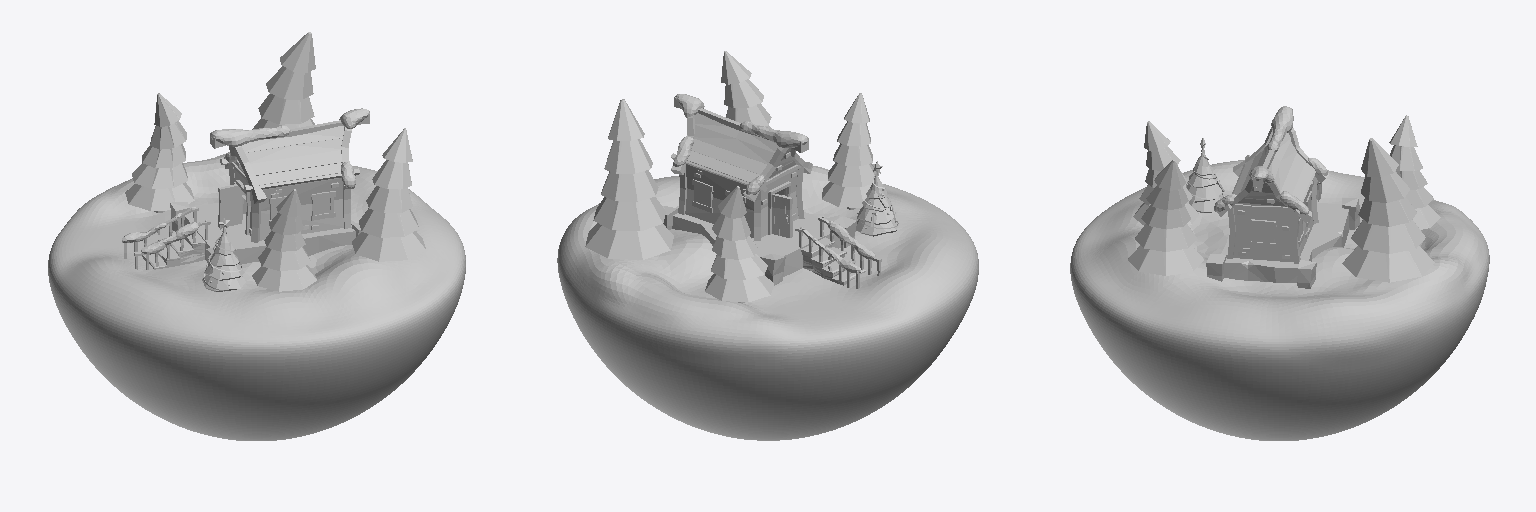
The model's file is globe_inside.obj.
3 renders of one model, left to right at view 1: azimuth 30°, elevation 25°; view 2: azimuth 150°, elevation 25°; view 3: azimuth 270°, elevation 25°, orthographic.
Parts seen in each view (by area): view 1: snow_ground_Mesh, Roxa.002_Mesh, Amarela.002_Mesh, Roof_Mesh, Verde.002_Mesh, Verde_Mesh, Roof_Wood_Trim_Mesh, Foundation_Mesh, Walls_Mesh, SnowBall.002_Mesh, Christmas_Tree.002_Mesh, Stairs_Mesh (+4 smaller); view 2: snow_ground_Mesh, Verde_Mesh, Amarela.002_Mesh, Roof_Mesh, Verde.002_Mesh, Roof_Wood_Trim_Mesh, Foundation_Mesh, Walls_Mesh, Roxa.002_Mesh, SnowBall.002_Mesh, Christmas_Tree.002_Mesh, Stairs_Mesh (+5 smaller); view 3: snow_ground_Mesh, Verde_Mesh, Roxa.002_Mesh, Foundation_Mesh, Roof_Mesh, Roof_Wood_Trim_Mesh, Amarela.002_Mesh, Walls_Mesh, SnowBall.002_Mesh, Verde.002_Mesh, Christmas_Tree.002_Mesh, Foundation_Blocks_Mesh (+1 smaller).
Part boxes in pixels (left/top/right/bottom): snow_ground_Mesh: left=48, top=154, right=465, bottom=440; Roxa.002_Mesh: left=352, top=128, right=425, bottom=261; Amarela.002_Mesh: left=125, top=93, right=194, bottom=212; Roof_Mesh: left=234, top=126, right=343, bottom=185; Verde.002_Mesh: left=252, top=189, right=316, bottom=291; Verde_Mesh: left=252, top=32, right=315, bottom=129; Roof_Wood_Trim_Mesh: left=210, top=113, right=369, bottom=242; Foundation_Mesh: left=184, top=203, right=355, bottom=264; Walls_Mesh: left=234, top=169, right=343, bottom=240; SnowBall.002_Mesh: left=210, top=108, right=369, bottom=187; Christmas_Tree.002_Mesh: left=202, top=227, right=245, bottom=291; Stairs_Mesh: left=142, top=231, right=205, bottom=269; snow_ground_Mesh: left=557, top=165, right=978, bottom=440; Verde_Mesh: left=585, top=99, right=673, bottom=259; Amarela.002_Mesh: left=705, top=186, right=773, bottom=303; Roof_Mesh: left=687, top=113, right=796, bottom=182; Verde.002_Mesh: left=822, top=93, right=878, bottom=209; Roof_Wood_Trim_Mesh: left=671, top=97, right=812, bottom=240; Foundation_Mesh: left=672, top=206, right=840, bottom=276; Walls_Mesh: left=685, top=164, right=798, bottom=237; Roxa.002_Mesh: left=721, top=51, right=771, bottom=128; SnowBall.002_Mesh: left=673, top=94, right=807, bottom=194; Christmas_Tree.002_Mesh: left=856, top=171, right=898, bottom=236; Stairs_Mesh: left=801, top=237, right=865, bottom=285; snow_ground_Mesh: left=1070, top=160, right=1489, bottom=440; Verde_Mesh: left=1342, top=138, right=1434, bottom=282; Roxa.002_Mesh: left=1128, top=160, right=1203, bottom=275; Foundation_Mesh: left=1221, top=203, right=1349, bottom=282; Roof_Mesh: left=1233, top=133, right=1314, bottom=206; Roof_Wood_Trim_Mesh: left=1216, top=109, right=1328, bottom=263; Amarela.002_Mesh: left=1389, top=115, right=1440, bottom=229; Walls_Mesh: left=1233, top=180, right=1313, bottom=261; SnowBall.002_Mesh: left=1214, top=106, right=1327, bottom=214; Verde.002_Mesh: left=1133, top=121, right=1198, bottom=224; Christmas_Tree.002_Mesh: left=1186, top=150, right=1222, bottom=212; Foundation_Blocks_Mesh: left=1206, top=198, right=1359, bottom=288.
Bounding box in the file's own units: 1.74 × 1.51 × 1.74.